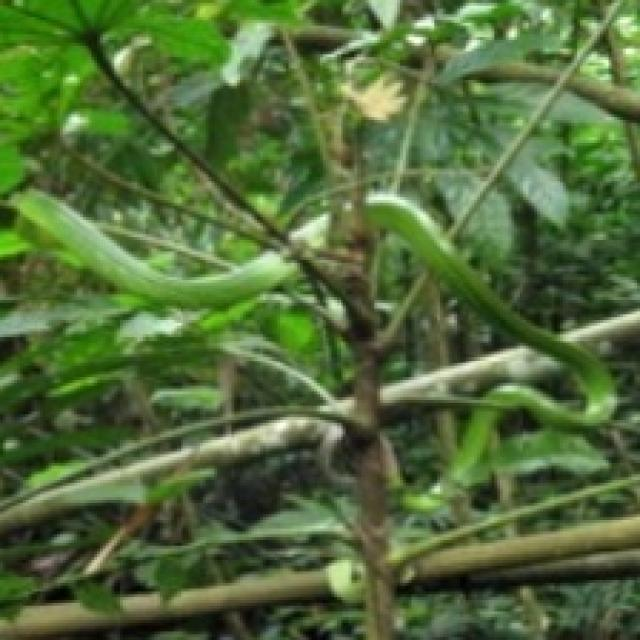red-tailed green ratsnake: (369, 194, 611, 423), (17, 191, 291, 303)
